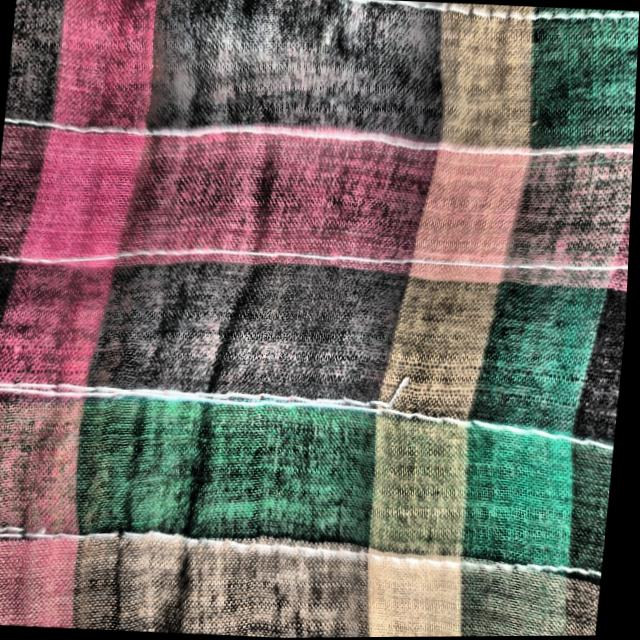Stitch: (191, 340, 438, 431), (0, 500, 80, 575)
